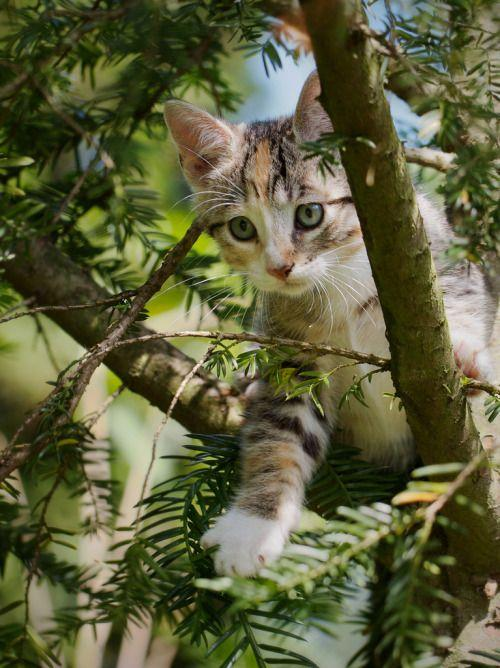kedo: (162, 70, 408, 576)
